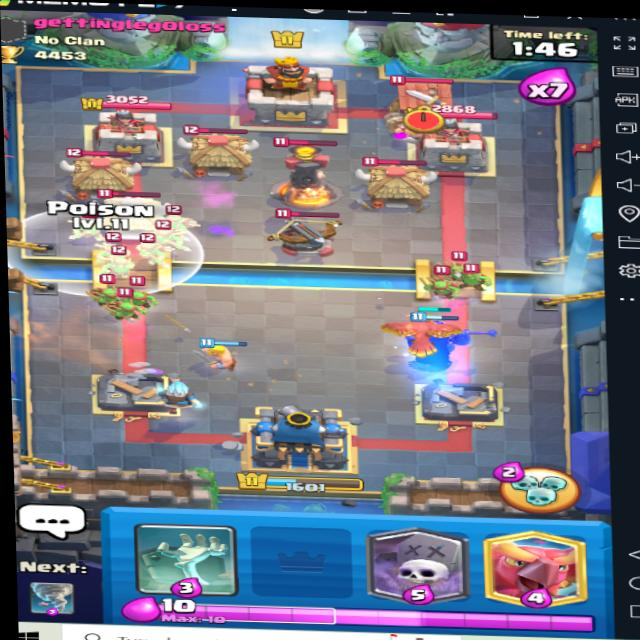barbarian-hut: (381, 72, 464, 128)
goblin-hut: (88, 184, 176, 240), (174, 122, 259, 179), (359, 154, 435, 210), (64, 148, 145, 199)
inferno-tower: (269, 134, 339, 205)
spear-goblin: (431, 307, 470, 344), (105, 300, 145, 324), (90, 277, 126, 303), (160, 207, 197, 231), (460, 262, 489, 291), (106, 250, 138, 276), (121, 289, 162, 309), (131, 238, 161, 265), (441, 253, 472, 279), (422, 277, 453, 302), (152, 229, 183, 250)
x-bow: (263, 201, 346, 257)
